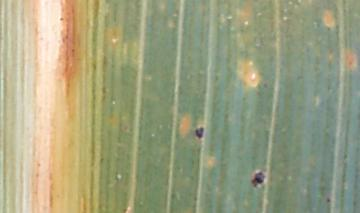tarspot: (251, 169, 265, 188), (194, 126, 205, 140), (325, 196, 331, 204), (58, 16, 65, 22)
